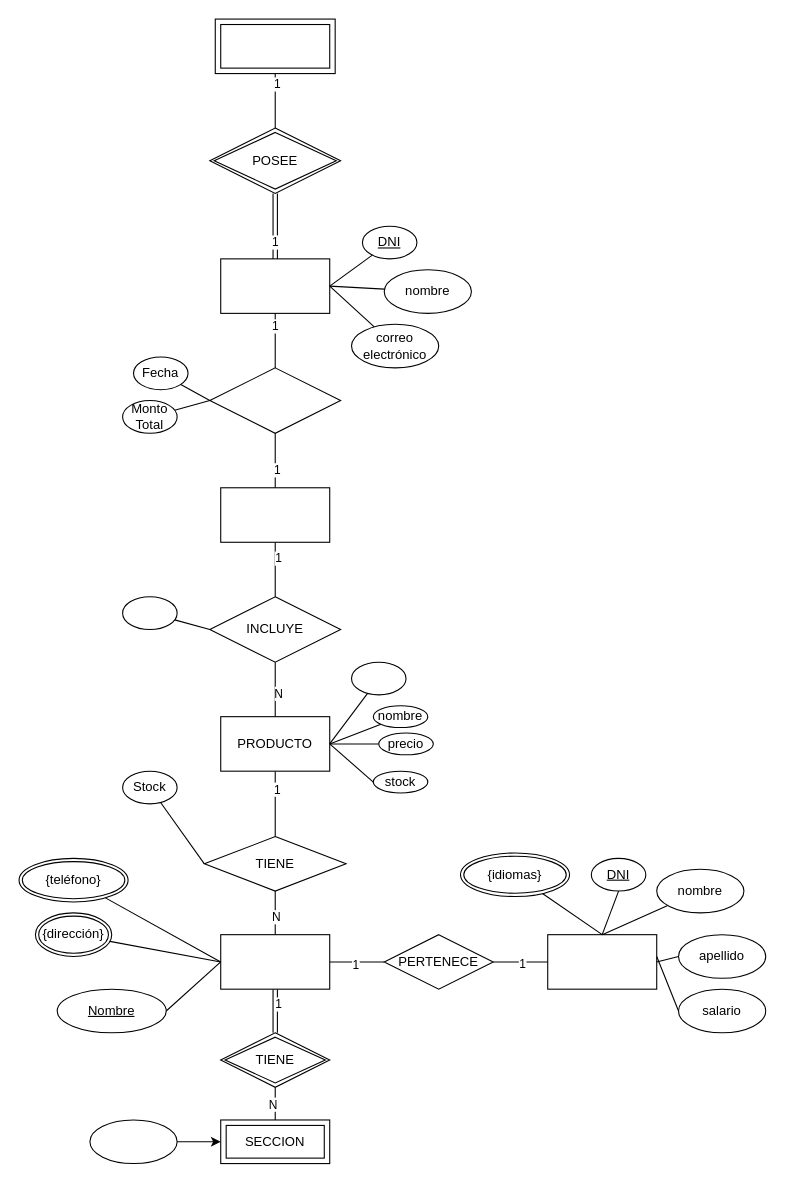
The diagram is 785 pixels wide and 1183 high, and some of its shapes have lost their labels. The shapes that lost their labels are listed below. From the top down, each one's centre as x and y in pixels, then its label:
(274,46): TARJETA DE FIDELIDAD
(275,285): CLIENTE
(275,400): REALIZA
(275,514): COMPRA
(149,612): cantidad
(378,678): código
(275,961): SUCURSAL
(602,961): EMPLEADOS
(133,1141): nro_ sección
